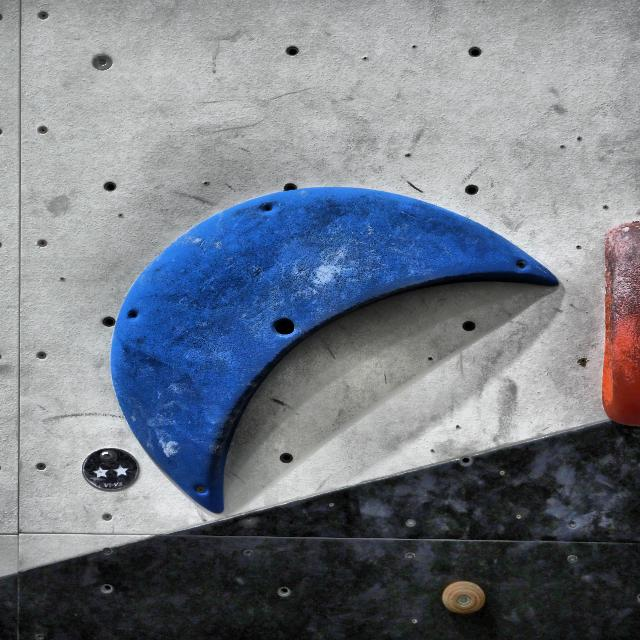Hold: (114, 181, 561, 512), (592, 202, 640, 432)
